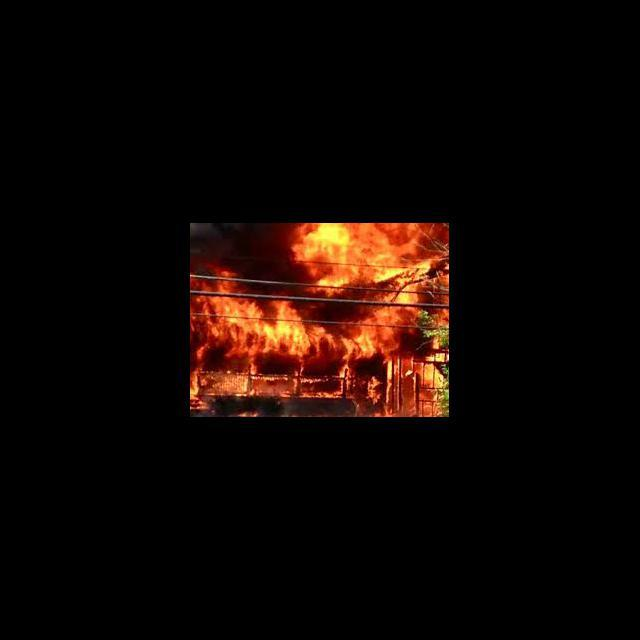Fire: (192, 268, 430, 416), (291, 224, 449, 268)
Smoke: (191, 224, 290, 266)
